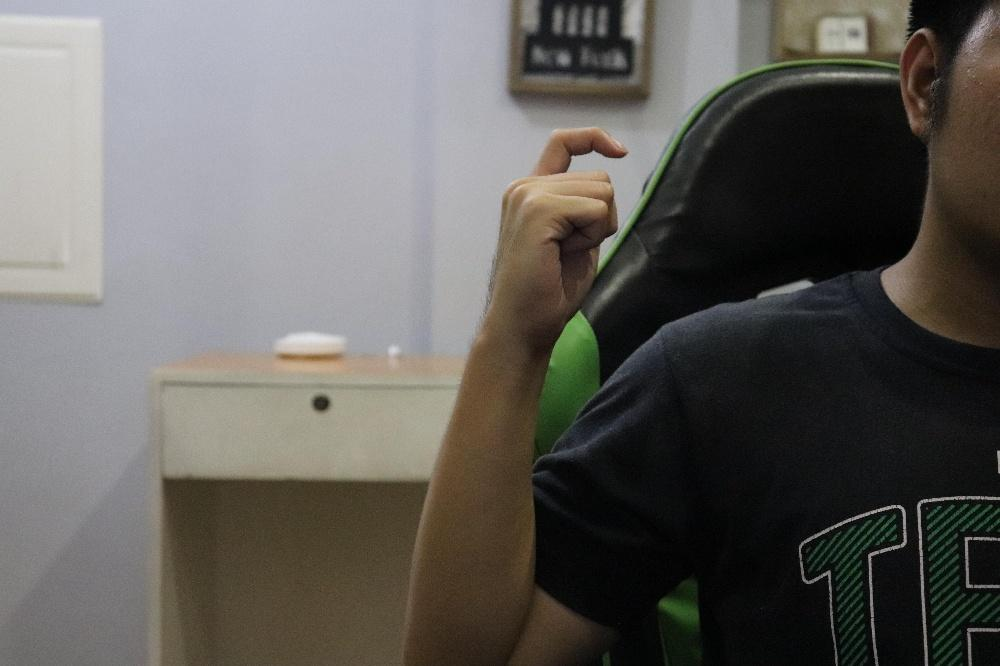x: (490, 124, 629, 340)
